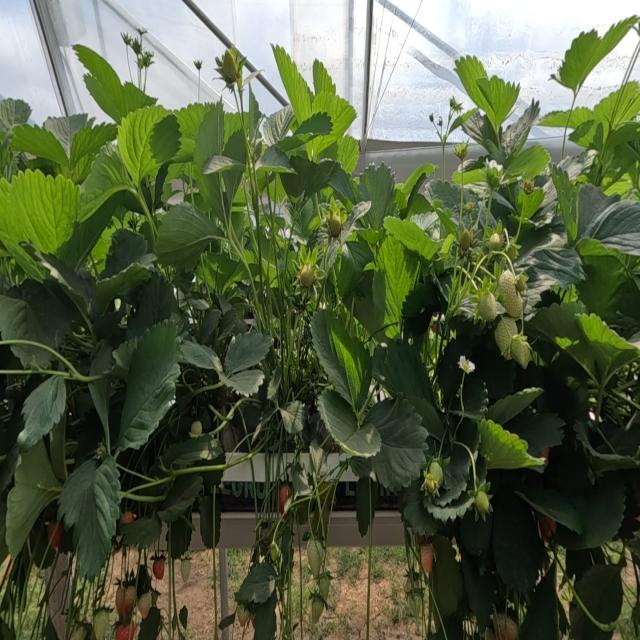Flowers: (142, 50, 154, 88), (458, 357, 475, 373), (449, 96, 463, 113), (121, 32, 134, 48), (136, 27, 147, 37), (194, 60, 202, 72), (126, 50, 128, 59)
Leaves: (117, 320, 179, 450), (59, 458, 119, 579), (374, 340, 443, 438), (6, 440, 60, 556), (310, 308, 371, 409), (1, 281, 72, 367), (8, 170, 80, 253), (492, 487, 545, 592), (529, 302, 604, 375), (370, 397, 427, 492), (117, 105, 179, 187), (562, 473, 625, 549), (154, 202, 222, 271), (516, 232, 583, 296), (318, 390, 380, 457), (372, 236, 412, 338), (74, 46, 125, 121), (577, 314, 636, 375), (19, 376, 67, 448), (455, 56, 501, 130), (127, 275, 180, 339), (520, 479, 583, 532), (582, 200, 640, 256), (478, 418, 540, 469), (520, 563, 561, 639), (81, 144, 131, 206), (272, 45, 311, 123), (425, 180, 487, 229), (460, 548, 495, 632), (575, 564, 623, 624), (428, 535, 462, 618), (11, 126, 69, 174), (557, 30, 600, 93), (504, 412, 563, 456), (594, 82, 639, 138), (437, 335, 471, 409), (69, 124, 115, 178), (357, 163, 394, 229), (105, 230, 156, 277), (385, 218, 438, 260), (578, 183, 619, 237), (313, 92, 355, 144), (225, 330, 271, 376), (156, 476, 202, 522), (593, 16, 637, 64), (165, 434, 225, 469), (438, 444, 471, 506), (502, 99, 539, 153), (403, 480, 439, 535), (193, 103, 223, 169), (551, 167, 578, 239), (44, 114, 88, 156), (234, 563, 275, 605), (504, 145, 550, 181), (283, 198, 317, 244), (180, 339, 222, 373), (119, 515, 161, 547), (263, 105, 294, 146), (356, 476, 376, 535), (253, 591, 277, 639), (329, 162, 357, 203), (200, 494, 221, 548), (175, 104, 205, 141), (222, 369, 263, 395), (342, 202, 370, 237), (1, 98, 31, 130), (242, 96, 263, 139), (256, 146, 292, 171), (123, 83, 155, 111), (462, 110, 488, 144), (280, 401, 306, 434), (313, 59, 335, 95), (337, 135, 358, 172), (202, 155, 241, 174), (224, 113, 242, 143)
Strawberries: (498, 270, 521, 319), (215, 49, 242, 89), (495, 316, 517, 358), (116, 586, 135, 625), (477, 291, 500, 322), (307, 538, 324, 578), (511, 335, 531, 367), (493, 614, 517, 639), (93, 610, 109, 639), (428, 461, 443, 491), (484, 165, 502, 190), (474, 490, 489, 516), (318, 571, 330, 603), (278, 485, 291, 514), (299, 264, 315, 287), (310, 595, 323, 623), (138, 592, 151, 619), (421, 545, 433, 573), (49, 522, 62, 547), (236, 604, 250, 627), (222, 428, 235, 451), (328, 214, 341, 237), (460, 230, 472, 251), (454, 143, 468, 161), (489, 233, 502, 251), (180, 559, 190, 582), (115, 624, 129, 639), (269, 540, 279, 561), (153, 559, 163, 579), (191, 421, 203, 437), (524, 178, 534, 194), (73, 626, 85, 639), (122, 512, 133, 524)
